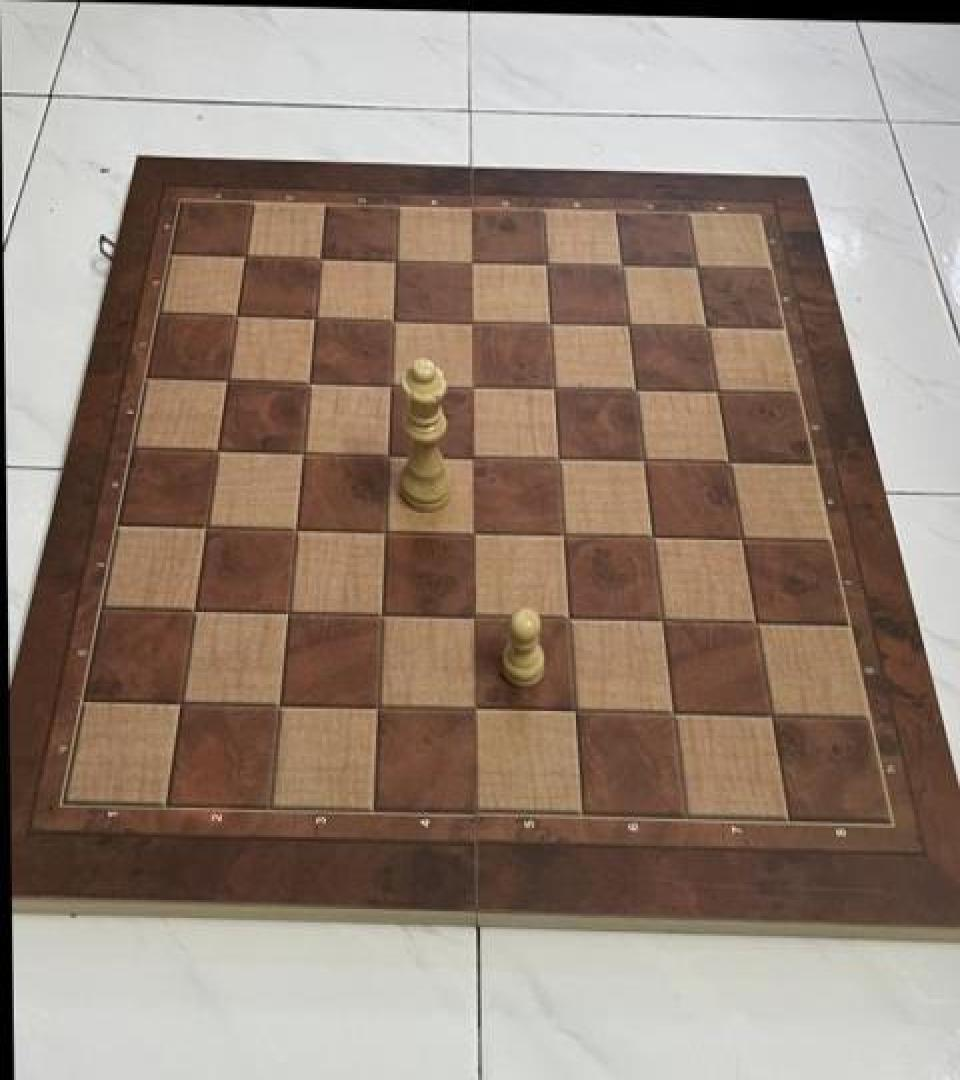xcorner: (302, 237, 336, 276), (619, 371, 653, 410), (739, 606, 773, 645), (261, 686, 295, 725), (681, 249, 715, 287), (605, 246, 639, 284), (530, 244, 564, 282), (454, 242, 488, 280), (378, 240, 412, 278), (226, 235, 260, 273), (691, 308, 725, 346), (612, 306, 646, 344), (533, 304, 567, 342), (454, 302, 488, 340), (375, 300, 409, 338), (296, 297, 330, 335), (217, 296, 251, 334), (702, 374, 736, 412), (537, 369, 571, 407), (455, 367, 489, 405), (373, 364, 407, 402), (290, 362, 324, 400), (208, 360, 242, 398), (713, 444, 747, 482), (627, 442, 661, 480), (542, 440, 576, 478), (456, 438, 490, 476), (370, 436, 404, 474), (284, 433, 318, 471), (198, 431, 232, 469), (726, 522, 760, 560), (636, 520, 670, 558), (546, 518, 580, 556), (457, 514, 491, 552), (367, 512, 401, 550), (277, 510, 311, 548), (645, 604, 679, 642), (551, 602, 585, 640), (457, 598, 491, 636), (363, 596, 397, 634), (269, 594, 303, 632), (175, 591, 209, 629), (754, 700, 788, 738), (656, 698, 690, 736), (557, 694, 591, 732), (458, 692, 492, 730), (360, 688, 394, 726), (162, 683, 196, 721), (187, 508, 221, 545)
